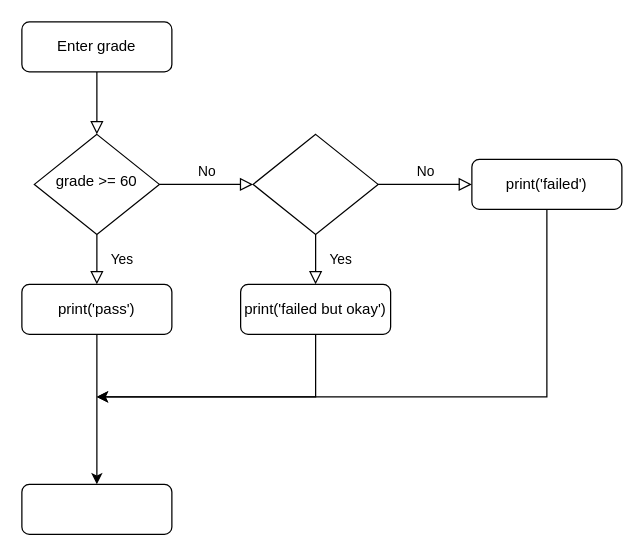
This 644x556 diagram has some shape labels left out. Here are the shapes that lost their labels. From the top down, the centre of each, then its label:
At (x=315, y=183): "grade >= 40".
At (x=96, y=508): "End of program".
